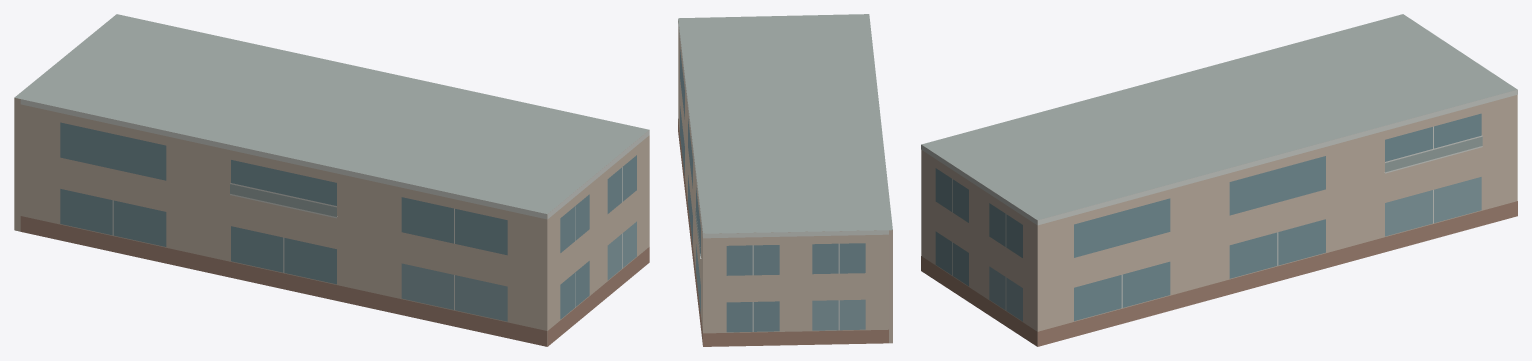
File: survey-upis-32584119.glb
3 views of the same model, side by side, from view 1: azimuth 30°, elevation 25°; view 2: azimuth 150°, elevation 25°; view 3: azimuth 270°, elevation 25° (orthographic). The views are drawn at different scales.
Visible parts, largest first — view 1: survey-upis-32584119.tmp; view 2: survey-upis-32584119.tmp; view 3: survey-upis-32584119.tmp.
Part boxes in pixels (x1,y1,x2,y2): survey-upis-32584119.tmp: [14, 14, 649, 346]; survey-upis-32584119.tmp: [678, 14, 892, 346]; survey-upis-32584119.tmp: [921, 14, 1517, 346].
Bounding box in the file's own units: 21.35 × 6.1 × 26.08.
